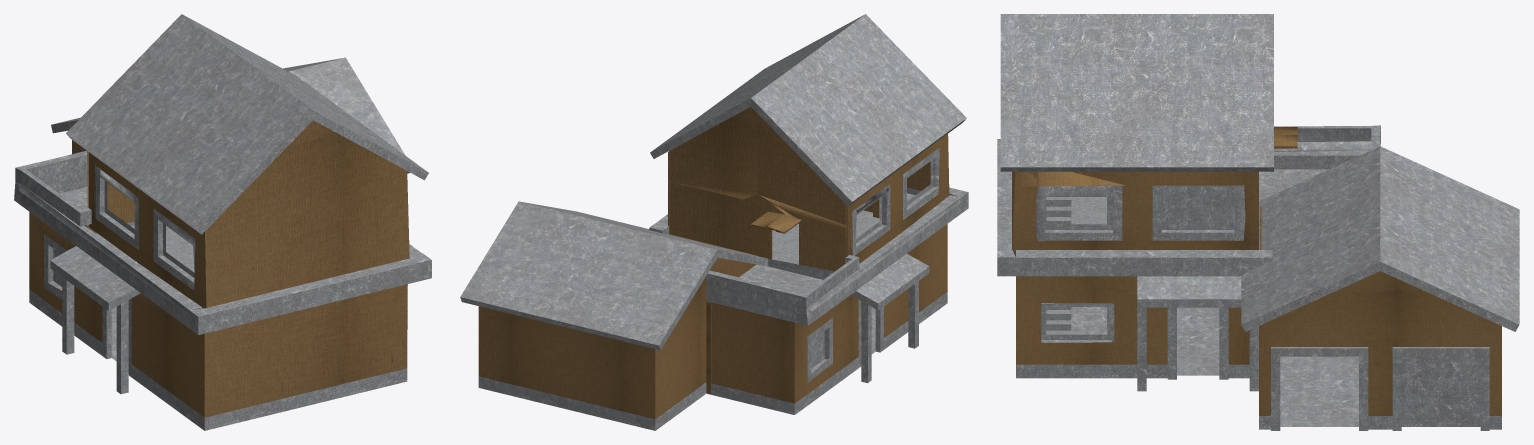
File: BLOCKYGON_HOUSE2.fbx
3 views of the same model, side by side, from view 1: azimuth 30°, elevation 25°; view 2: azimuth 150°, elevation 25°; view 3: azimuth 270°, elevation 25° (orthographic). The views are drawn at different scales.
Visible parts, largest first — view 1: BLOCKYGON_HOUSE2; view 2: BLOCKYGON_HOUSE2; view 3: BLOCKYGON_HOUSE2.
Boxes of the visible parts, <box> form: BLOCKYGON_HOUSE2: <box>14,14,431,430</box>; BLOCKYGON_HOUSE2: <box>460,14,968,430</box>; BLOCKYGON_HOUSE2: <box>997,14,1519,430</box>.
Bounding box in the file's own units: 1048 × 853 × 1289.
